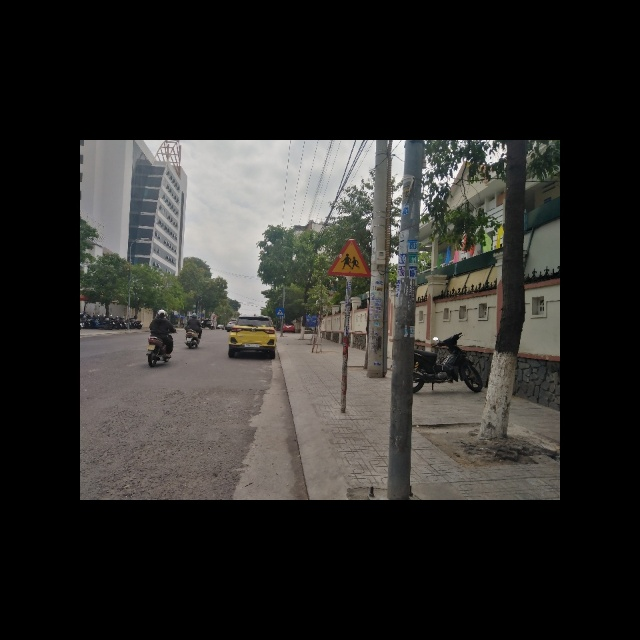Trẻ em ngang qua: (326, 239, 371, 277)
Đường dành cho người đi bộ: (275, 307, 285, 317)
